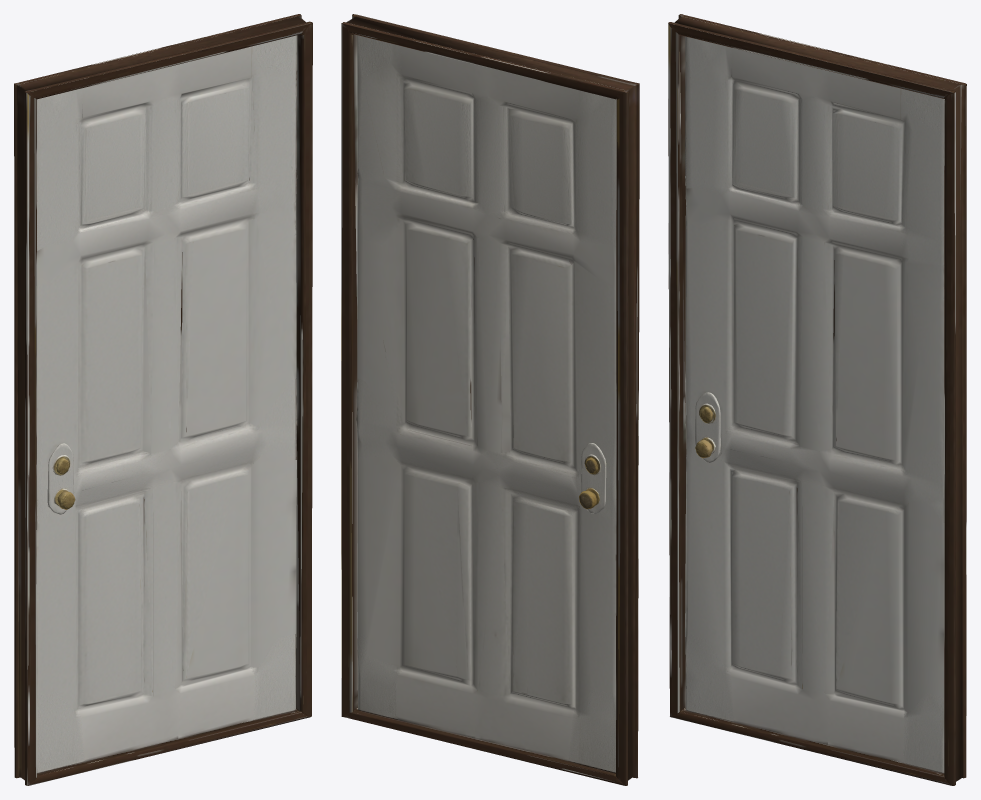
The model's file is Meshy_AI_a_suburban_door_0903105847_texture.glb.
The picture shows the model from 3 angles, left to right: view 1: azimuth 30°, elevation 25°; view 2: azimuth 150°, elevation 25°; view 3: azimuth 330°, elevation 25°; orthographic projection.
Parts seen in each view (by area): view 1: mesh_node; view 2: mesh_node; view 3: mesh_node.
Part boxes in pixels (x1=…): mesh_node: x1=14, y1=14, x2=312, y2=785; mesh_node: x1=341, y1=14, x2=639, y2=785; mesh_node: x1=668, y1=14, x2=966, y2=785.
Size of the model in its own units: 0.4326 by 1 by 0.0571.
Materials: 1 (1 with a texture image).
